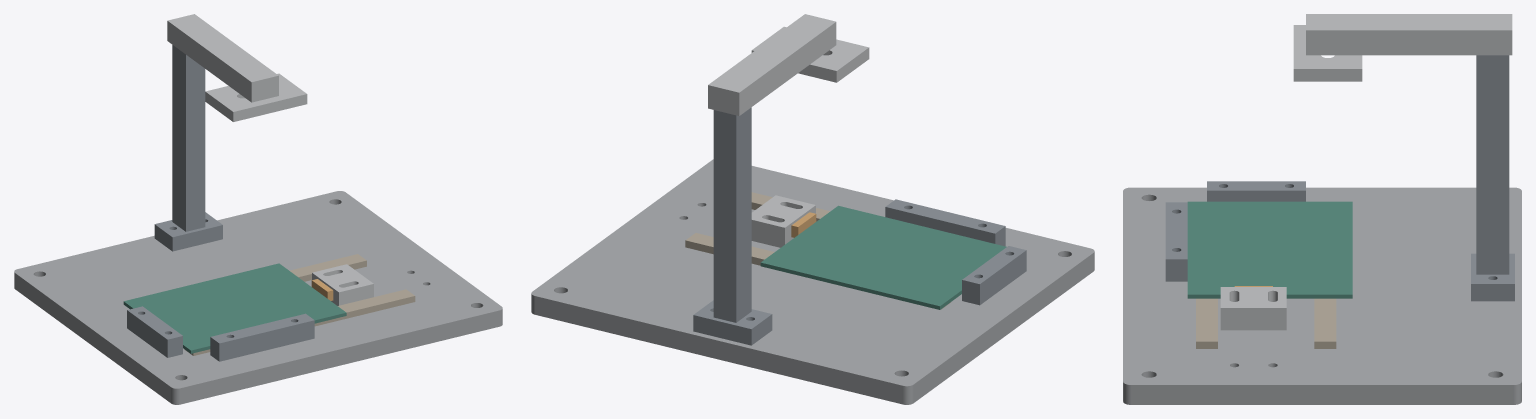
The model's file is inspection-fixture-small.glb.
3 views of the same model, side by side, from view 1: azimuth 30°, elevation 25°; view 2: azimuth 150°, elevation 25°; view 3: azimuth 270°, elevation 25° (orthographic). The views are drawn at different scales.
Parts seen in each view (by area): view 1: Baseplate, Reference PCB, Camera mast, Camera arm, Y datum stop, Slotted camera plate, X datum stop, Sliding clamp, Front support rail, Rear support rail; view 2: Baseplate, Reference PCB, Camera mast, Camera arm, Y datum stop, X datum stop, Sliding clamp, Slotted camera plate, Rear support rail; view 3: Baseplate, Reference PCB, Camera mast, Camera arm, Sliding clamp, Slotted camera plate, X datum stop, Y datum stop, Rear support rail, Front support rail.
Part boxes in pixels (<box>): Baseplate: <box>14,191,502,404</box>; Reference PCB: <box>123,263,346,353</box>; Camera mast: <box>154,45,222,251</box>; Camera arm: <box>167,14,278,102</box>; Y datum stop: <box>210,313,314,361</box>; Slotted camera plate: <box>205,73,307,121</box>; X datum stop: <box>127,306,182,357</box>; Sliding clamp: <box>312,264,373,305</box>; Front support rail: <box>184,289,415,355</box>; Rear support rail: <box>289,254,366,281</box>; Baseplate: <box>531,159,1094,404</box>; Reference PCB: <box>760,205,1006,309</box>; Camera mast: <box>693,107,772,345</box>; Camera arm: <box>708,14,836,115</box>; Y datum stop: <box>885,199,1005,246</box>; X datum stop: <box>962,246,1026,305</box>; Sliding clamp: <box>751,195,815,247</box>; Slotted camera plate: <box>751,26,869,82</box>; Rear support rail: <box>685,233,950,309</box>; Baseplate: <box>1123,187,1521,404</box>; Reference PCB: <box>1187,201,1352,298</box>; Camera mast: <box>1471,55,1514,301</box>; Camera arm: <box>1306,14,1512,55</box>; Sliding clamp: <box>1220,287,1286,330</box>; Slotted camera plate: <box>1293,25,1362,81</box>; X datum stop: <box>1207,181,1305,201</box>; Y datum stop: <box>1165,202,1187,281</box>; Rear support rail: <box>1314,298,1336,348</box>; Front support rail: <box>1196,298,1217,348</box>.
Size of the model in its own units: 0.17 by 0.114 by 0.145.
